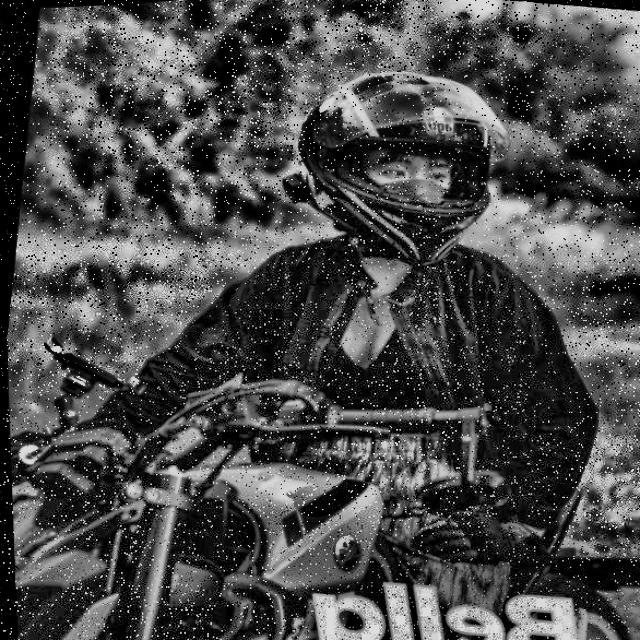Helmet: (275, 43, 529, 286)
